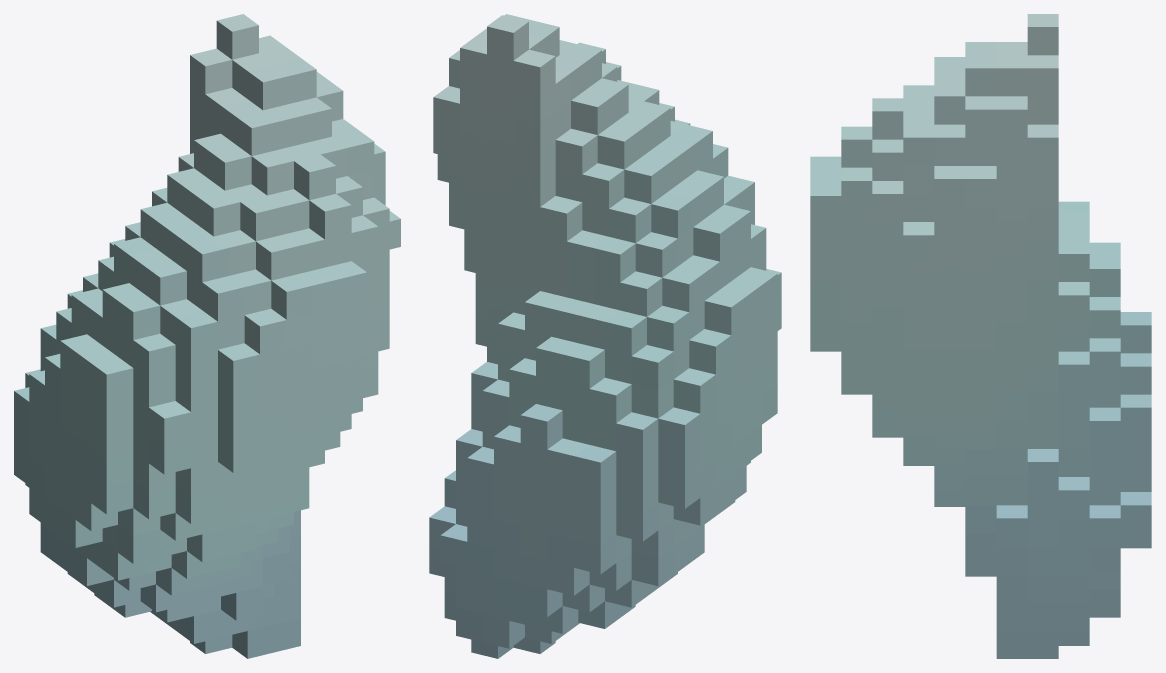
The model's file is mat_soul_fragment.glb.
3 views of the same model, side by side, from view 1: azimuth 30°, elevation 25°; view 2: azimuth 150°, elevation 25°; view 3: azimuth 270°, elevation 25° (orthographic).
Visible parts, largest first — view 1: mat_soul_fragment; view 2: mat_soul_fragment; view 3: mat_soul_fragment.
Part boxes in pixels (<box>): mat_soul_fragment: <box>14,14,400,658</box>; mat_soul_fragment: <box>429,14,781,658</box>; mat_soul_fragment: <box>810,14,1151,658</box>.
Bounding box in the file's own units: 0.132 × 0.264 × 0.132.
